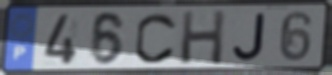4: (42, 12, 79, 67)
6: (87, 10, 130, 67), (278, 9, 314, 64)
C: (133, 11, 179, 66)
H: (178, 8, 227, 67)
J: (231, 11, 267, 62)
